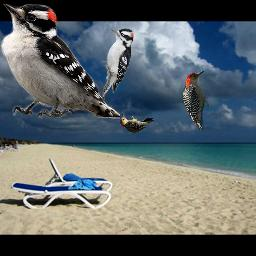Woodpecker: (0, 4, 120, 119), (102, 25, 137, 100), (182, 70, 209, 130), (117, 111, 156, 133)
